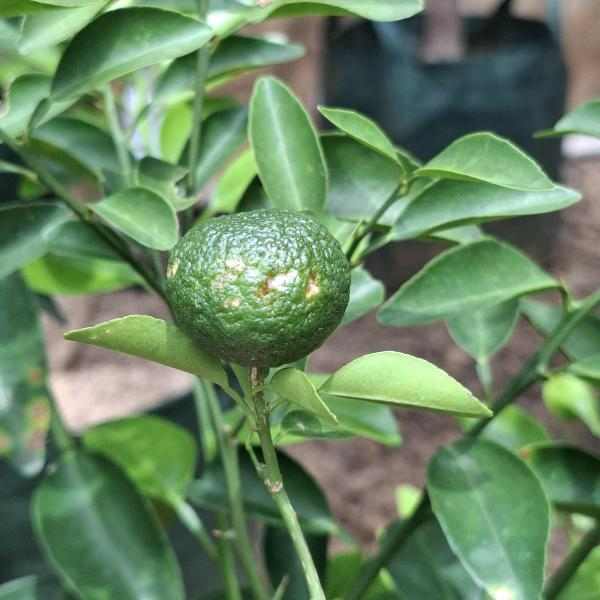Scab: (148, 202, 358, 373)
